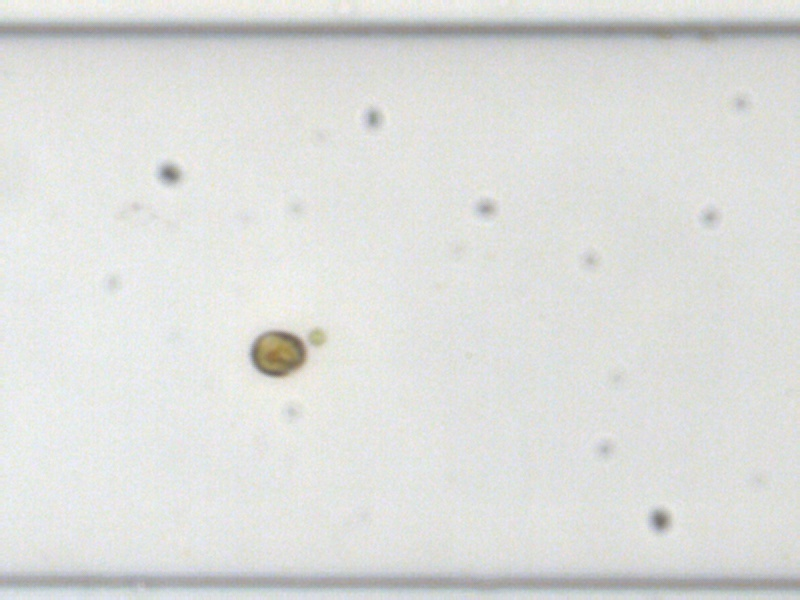Chlorella: (305, 326, 327, 346)
Effrenium: (245, 327, 306, 379)
